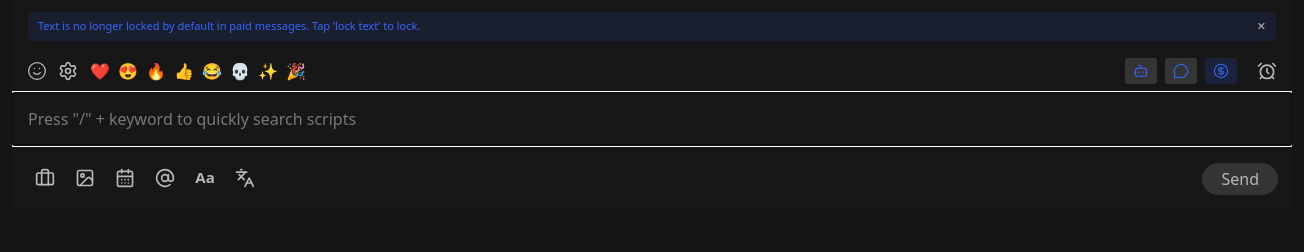
PPV row: Infloww's price field and the free-preview divider › the price field is still named "PPV price" and its "$" is a prefix inside the field's 85px box, 5px in, radius 4px
The image size is (1304, 252).
Click the button named "PPV": coordinates (1221, 70) 1205,58 -> 1237,84
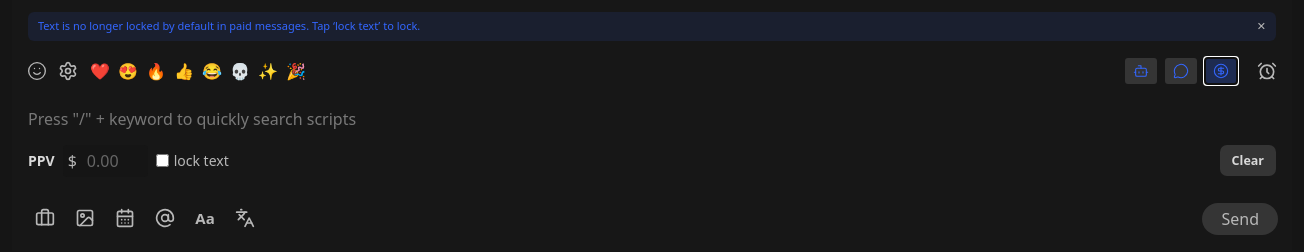
Check: the text "$" is shown, box 68,150 -> 77,172
Check: the label "$" is shown, box 63,144 -> 148,177
